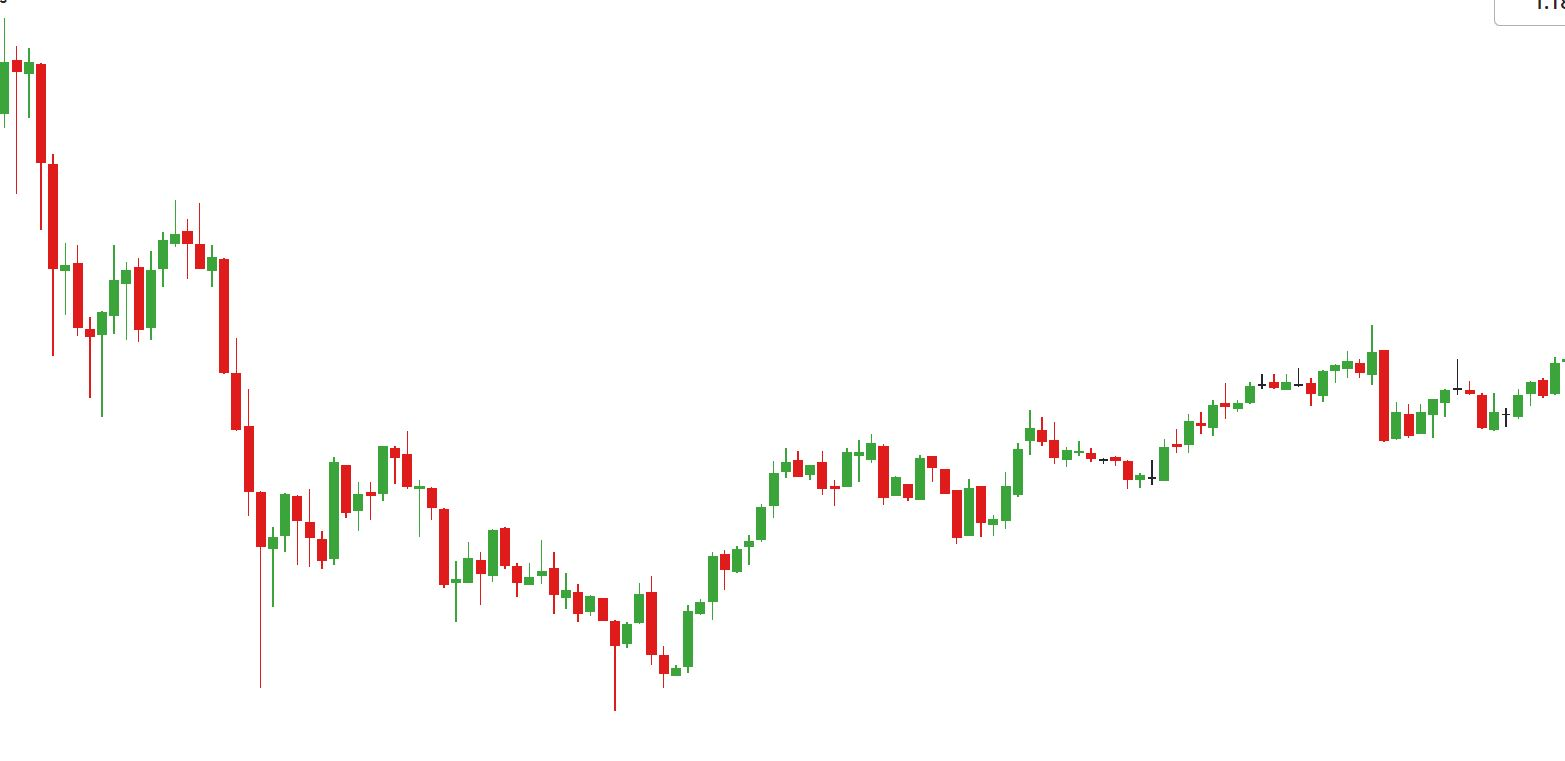buy: (827, 471, 976, 546)
sell: (107, 201, 208, 308), (327, 430, 415, 529)
